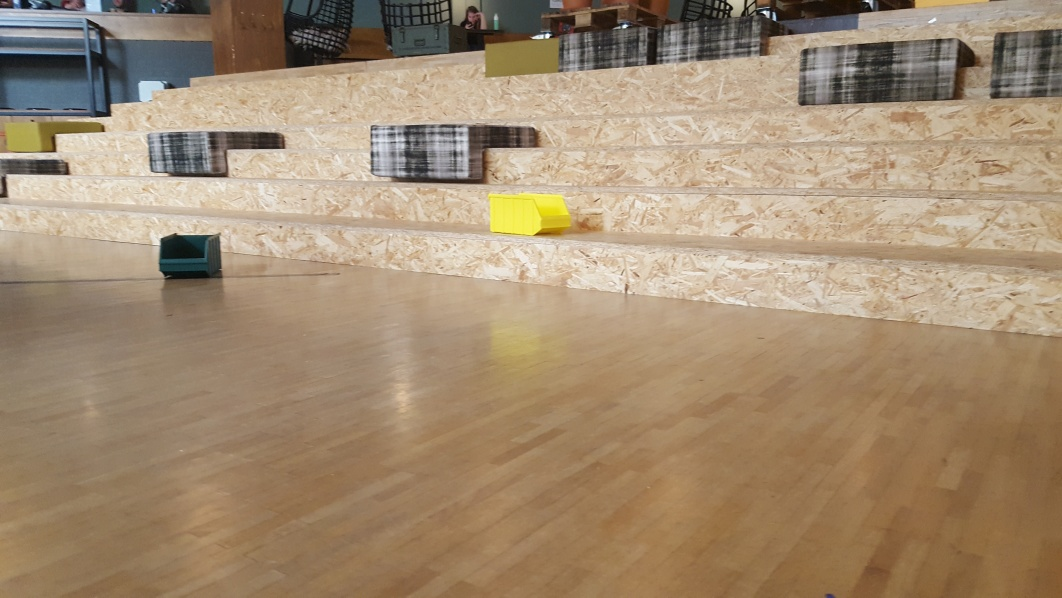tray: (487, 191, 572, 239), (158, 231, 225, 279)
